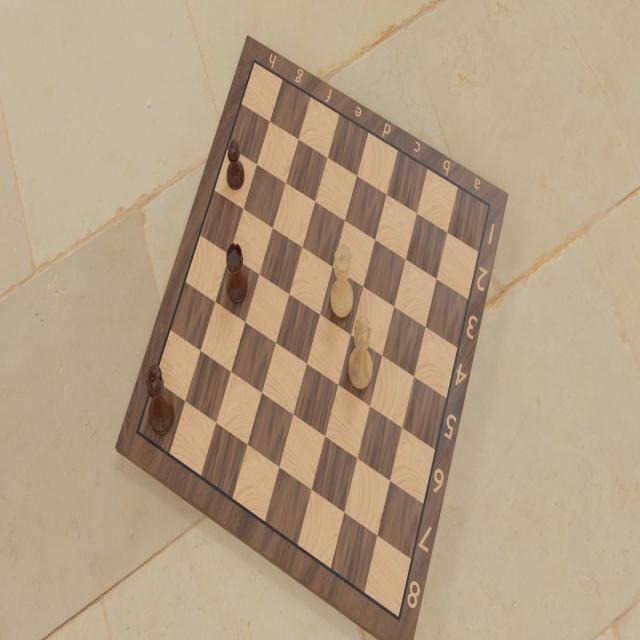black-king: (145, 360, 176, 440)
black-pawn: (223, 138, 245, 194)
black-rook: (223, 239, 248, 305)
white-king: (346, 313, 373, 390)
white-queen: (328, 244, 355, 319)
